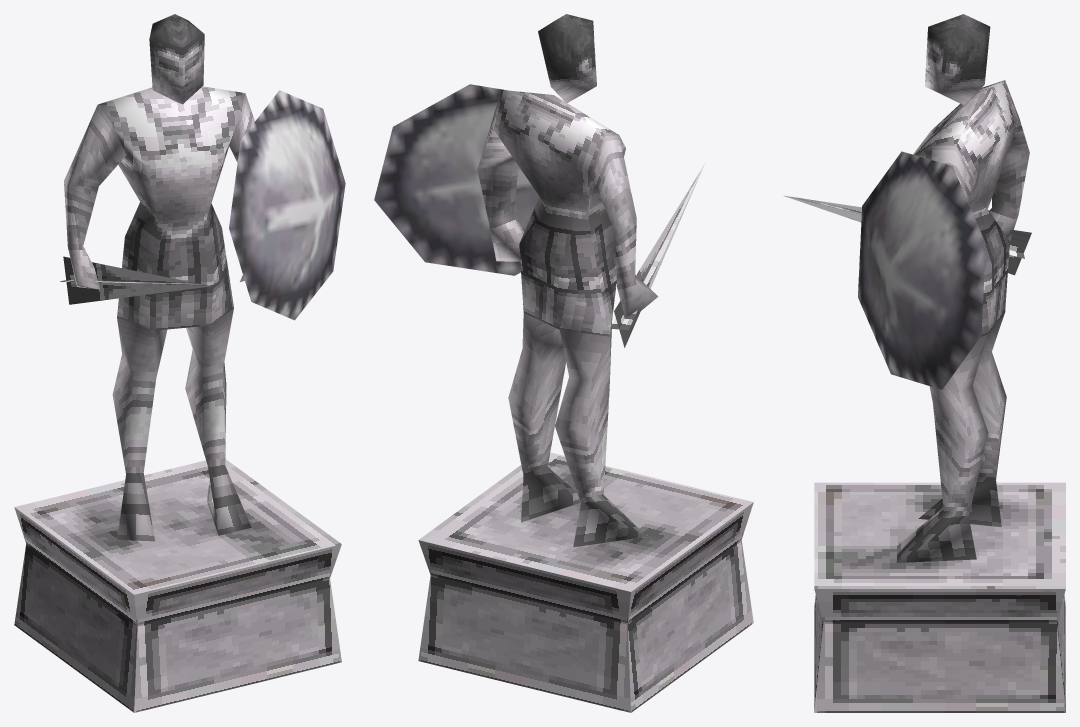
Rendered from idle.glb.
3 renders of one model, left to right at view 1: azimuth 30°, elevation 25°; view 2: azimuth 150°, elevation 25°; view 3: azimuth 270°, elevation 25°, orthographic. The views are drawn at different scales.
Parts seen in each view (by area): view 1: MeshRoot; view 2: MeshRoot; view 3: MeshRoot.
Boxes of the visible parts, left/top/right/bottom form: MeshRoot: left=14, top=14, right=345, bottom=712; MeshRoot: left=374, top=14, right=753, bottom=712; MeshRoot: left=783, top=14, right=1065, bottom=712.
Size of the model in its own units: 2.56 by 5.21 by 2.06.
5 materials, 5 textured.
